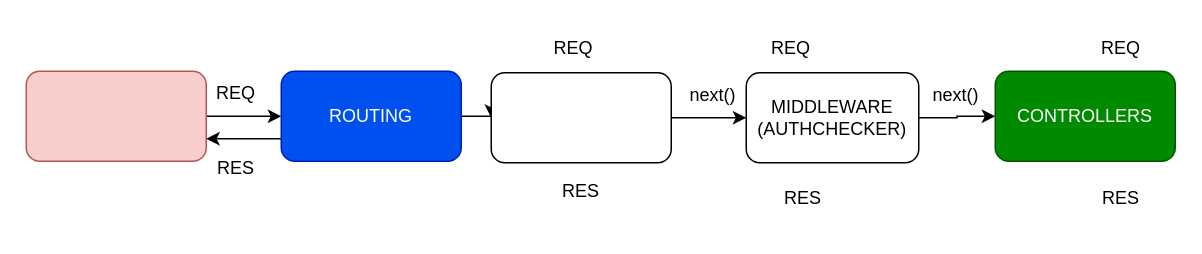
Some shapes in this 1202 by 254 pixel diagram are drawn without their labels. The shapes that lost their labels are listed below. From the top down, each one's centre as x and y in pixels, then its label:
point 115,115: CLIENT
point 580,117: MIDDLEWARE (LOGGER)
